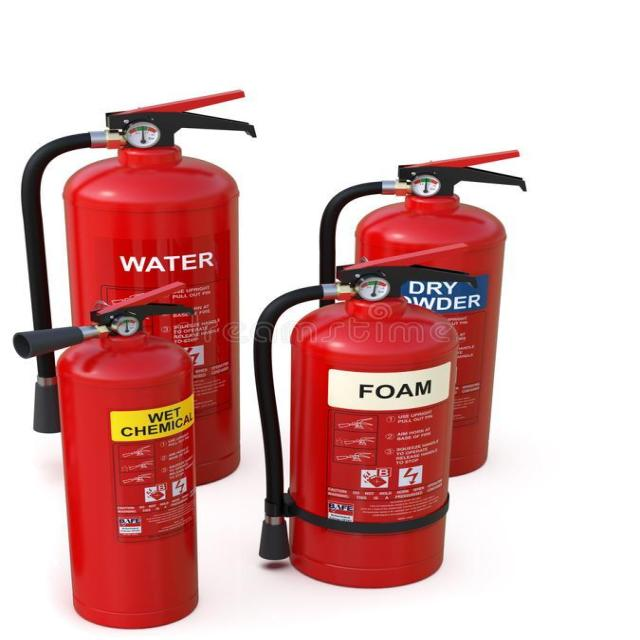fire_extinguisher: (16, 86, 264, 497), (246, 242, 484, 590), (309, 141, 530, 485), (7, 271, 201, 634)
